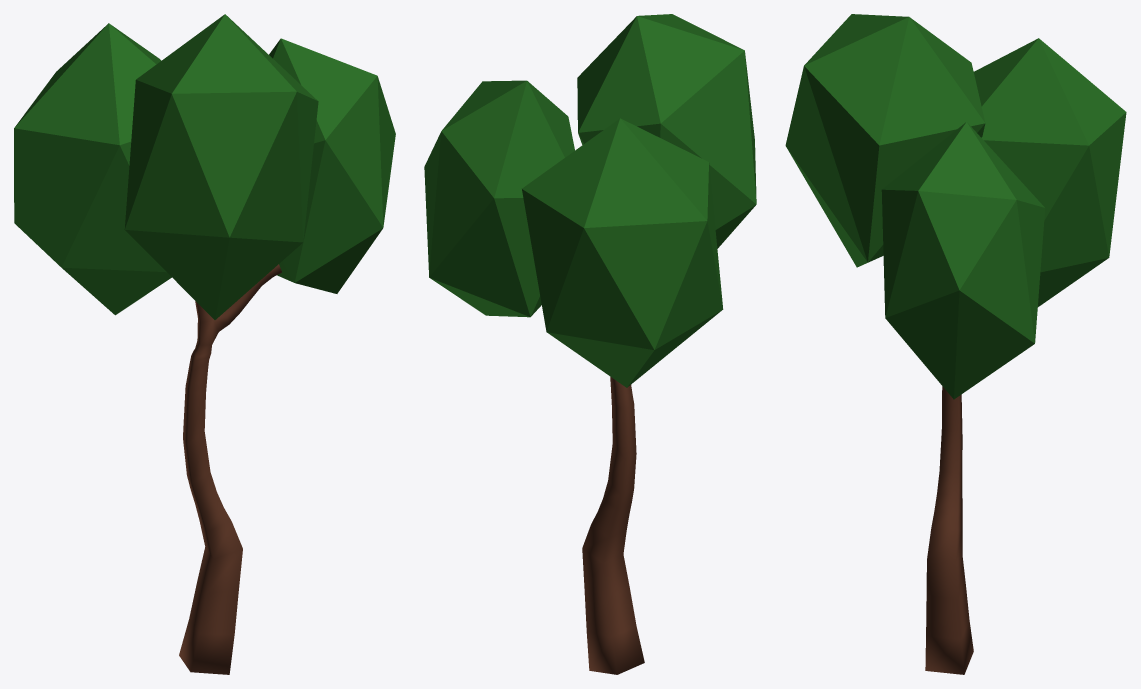
Rendered from ArvoreCenario2.fbx.
The picture shows the model from 3 angles, left to right: view 1: azimuth 30°, elevation 25°; view 2: azimuth 150°, elevation 25°; view 3: azimuth 270°, elevation 25°; orthographic projection. The views are drawn at different scales.
Parts seen in each view (by area): view 1: ArvoreCenario2; view 2: ArvoreCenario2; view 3: ArvoreCenario2.
Boxes of the visible parts, x1,y1,x2,y2 form: ArvoreCenario2: [14, 14, 395, 674]; ArvoreCenario2: [424, 14, 756, 674]; ArvoreCenario2: [785, 14, 1126, 674].
Size of the model in its own units: 2110 by 3984 by 1900.
